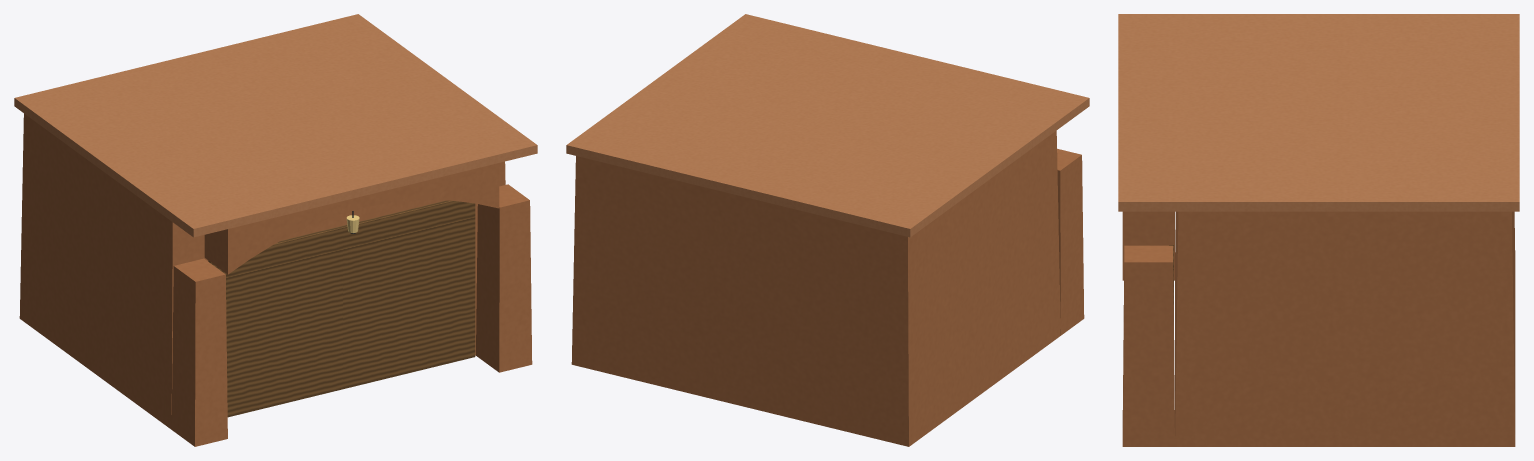
The model's file is SM_Souq_Stall_W5D45H30.fbx.
3 views of the same model, side by side, from view 1: azimuth 30°, elevation 25°; view 2: azimuth 150°, elevation 25°; view 3: azimuth 270°, elevation 25° (orthographic). The views are drawn at different scales.
Visible parts, largest first — view 1: SM_Souq_Stall_W5D45H30; view 2: SM_Souq_Stall_W5D45H30; view 3: SM_Souq_Stall_W5D45H30.
Boxes of the visible parts, x1,y1,x2,y2 form: SM_Souq_Stall_W5D45H30: (14,14,537,446); SM_Souq_Stall_W5D45H30: (566,14,1089,446); SM_Souq_Stall_W5D45H30: (1118,14,1519,446).
Size of the model in its own units: 510 by 312 by 460.
Materials: 5 (5 with a texture image).
